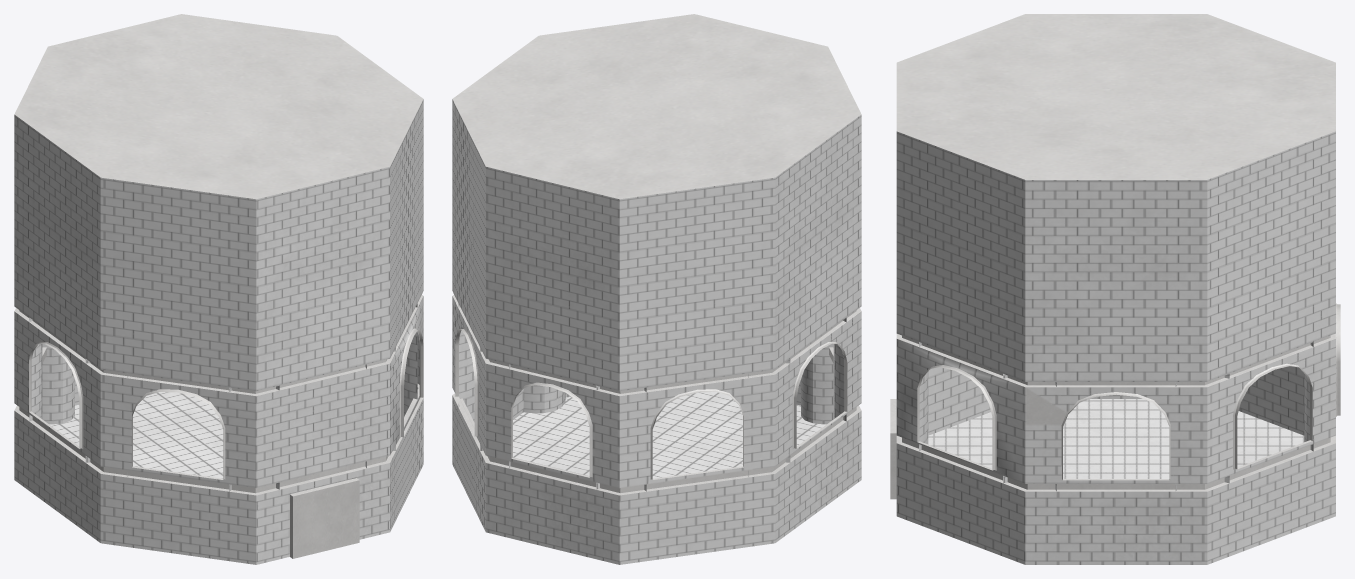
The model's file is temple.obj.
The picture shows the model from 3 angles, left to right: view 1: azimuth 30°, elevation 25°; view 2: azimuth 150°, elevation 25°; view 3: azimuth 270°, elevation 25°; orthographic projection. The views are drawn at different scales.
Parts seen in each view (by area): view 1: PillierTrans8; view 2: PillierTrans8; view 3: PillierTrans8.
Part boxes in pixels (x1,y1,x2,y2): PillierTrans8: [14, 14, 423, 564]; PillierTrans8: [452, 14, 861, 564]; PillierTrans8: [890, 14, 1340, 564].
Size of the model in its own units: 1.42 by 1.5 by 1.59.
